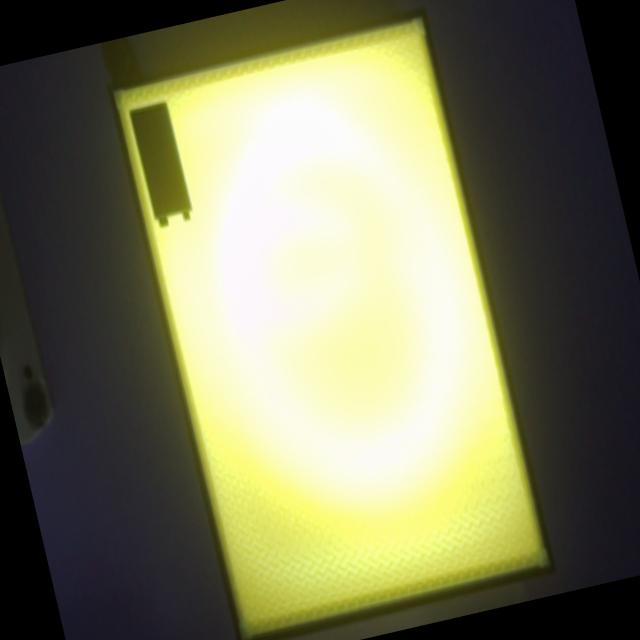bateria: (129, 100, 192, 225)
mesa: (105, 7, 555, 640)
